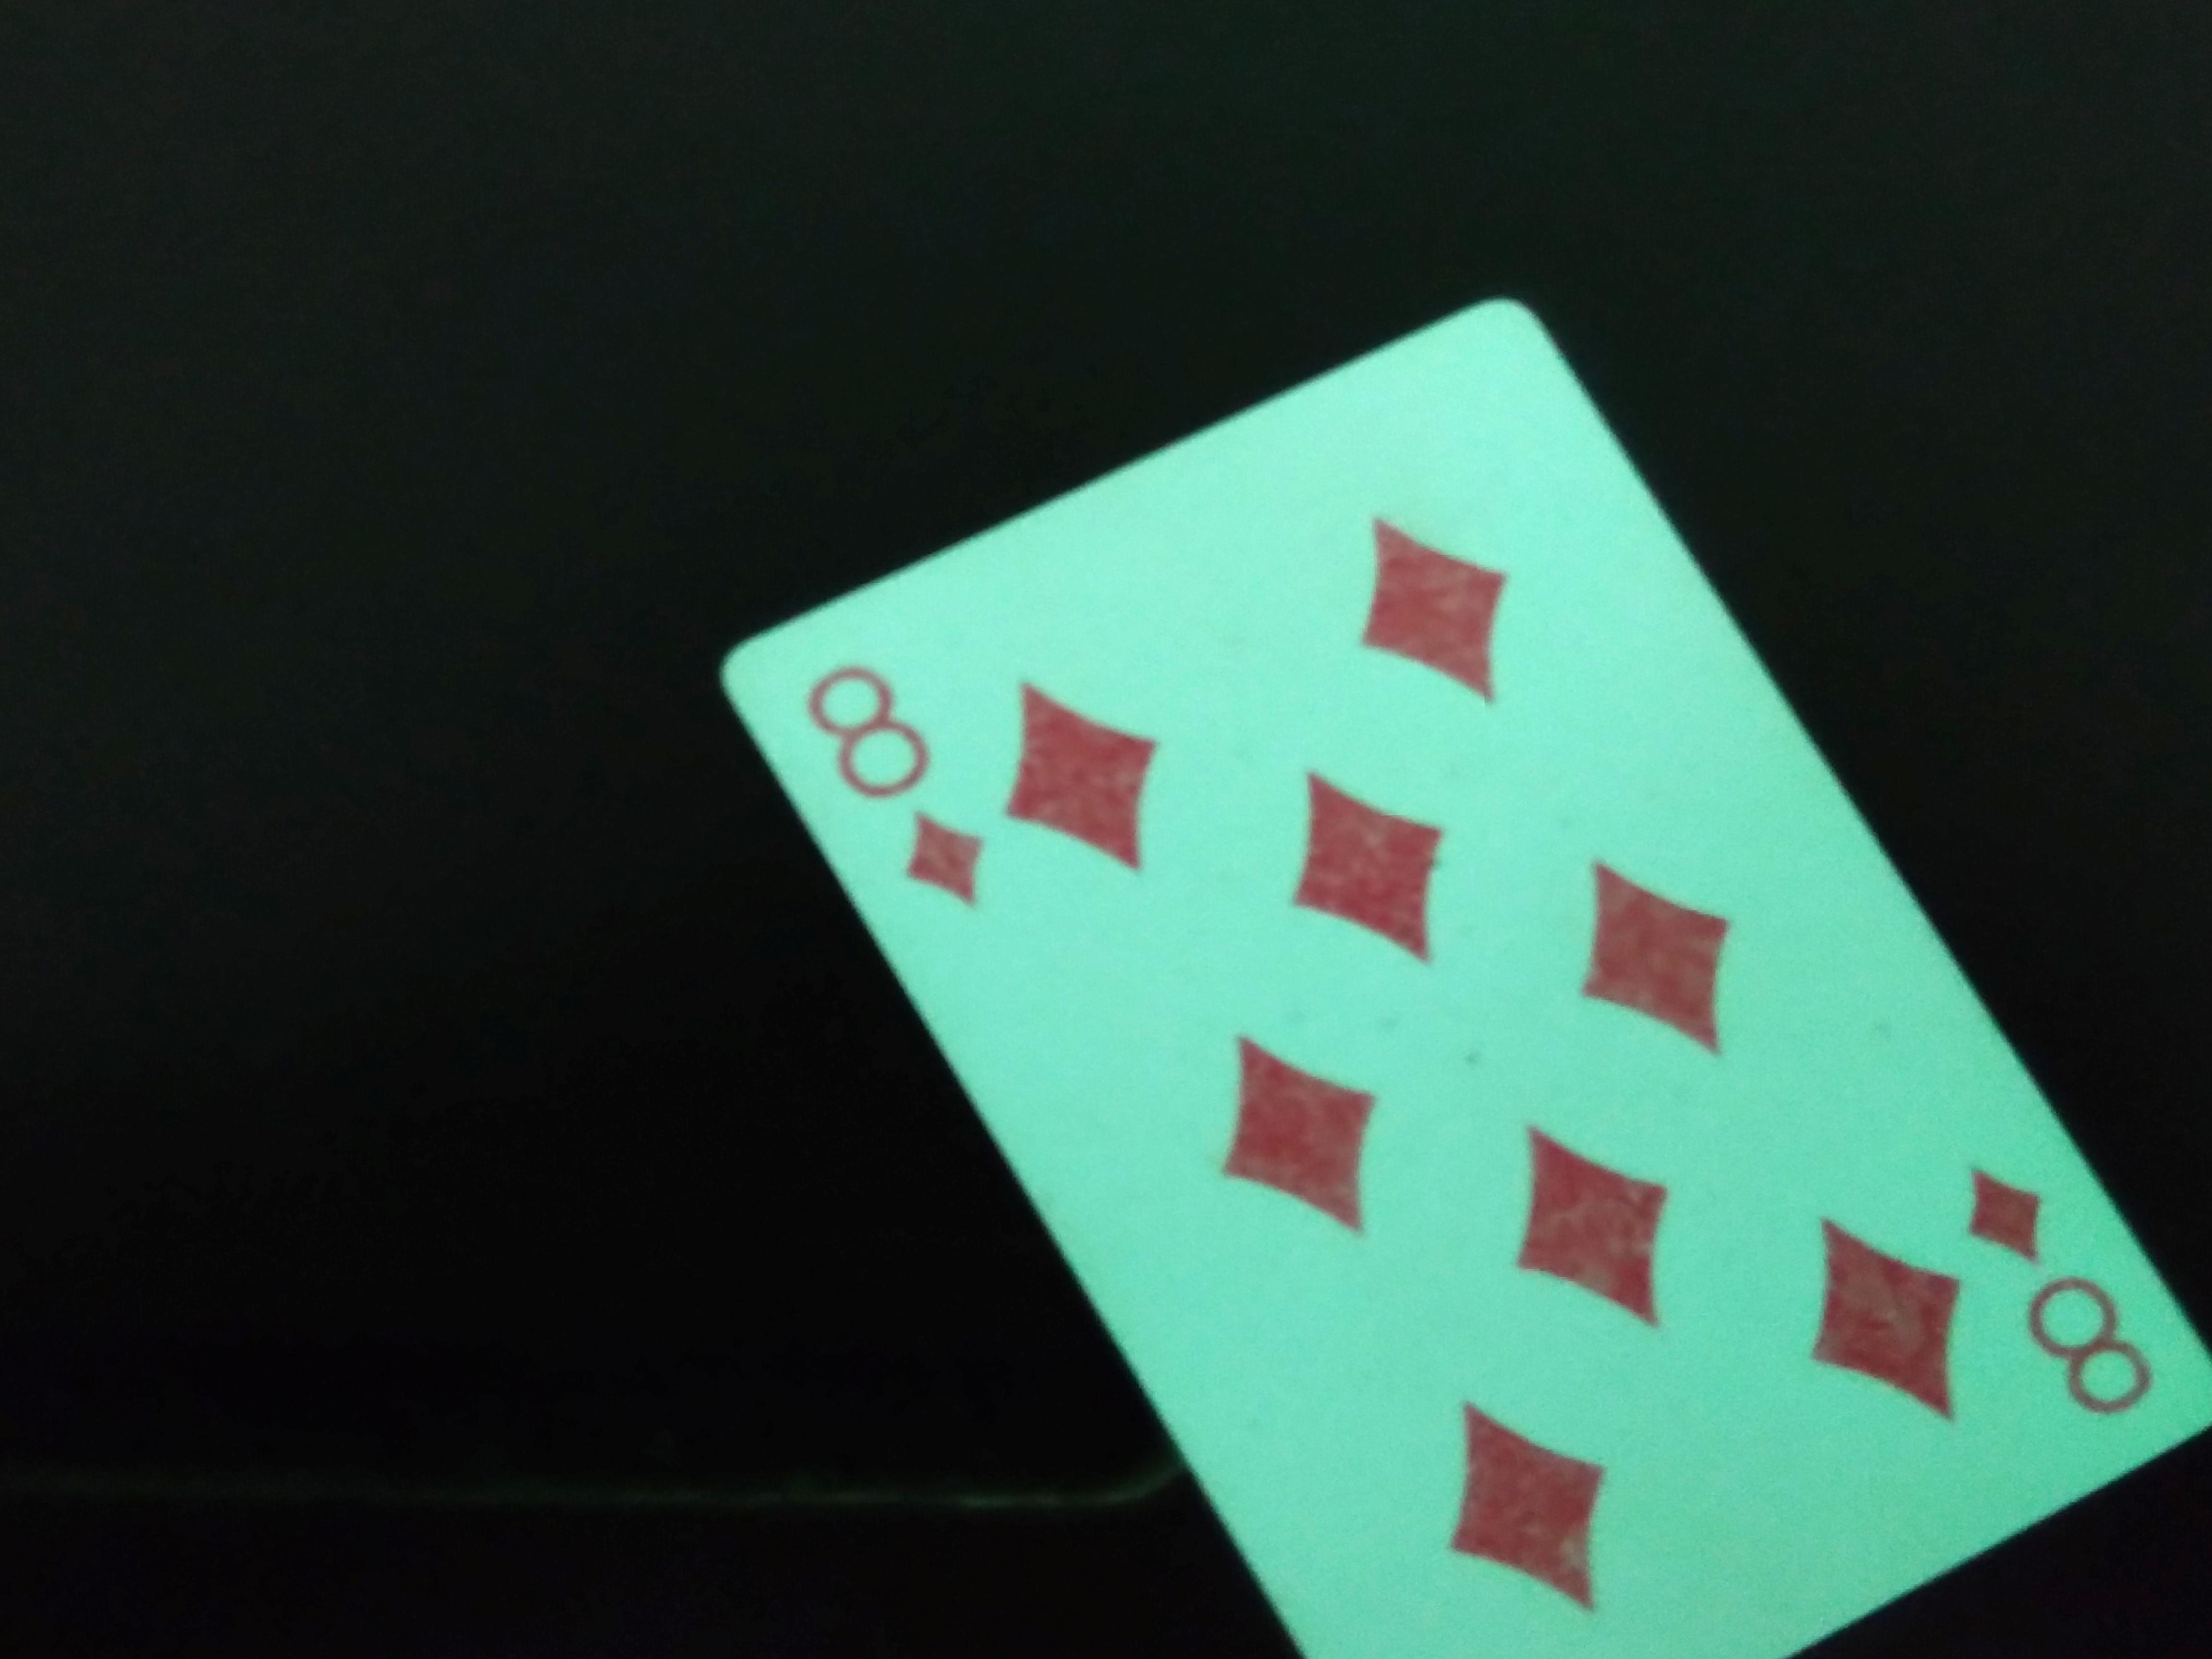8D: (786, 629, 1000, 934)
